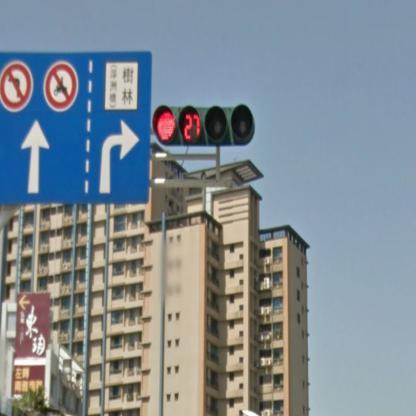Red Light: (152, 102, 257, 149)
